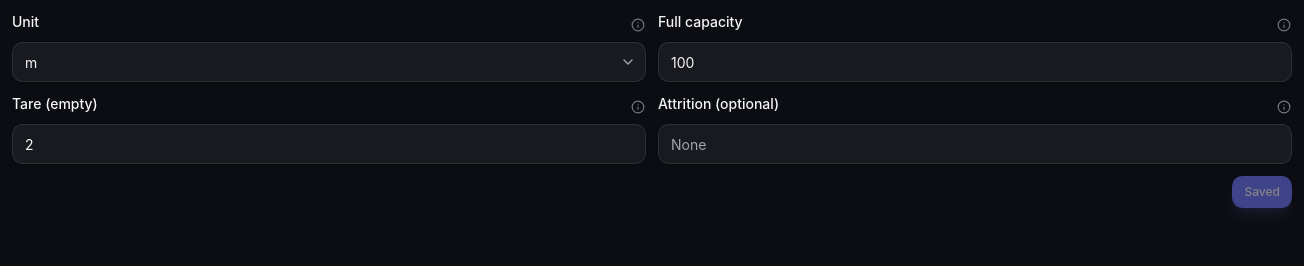
GaugeConfigEditor (issue #69) › warns how much would be discarded before shrinking below the current level
Replace the text in the number field with test id "gauge-config-capacity" with "50" at (975,62), box top-left (658, 42), bottom-right (1292, 82)
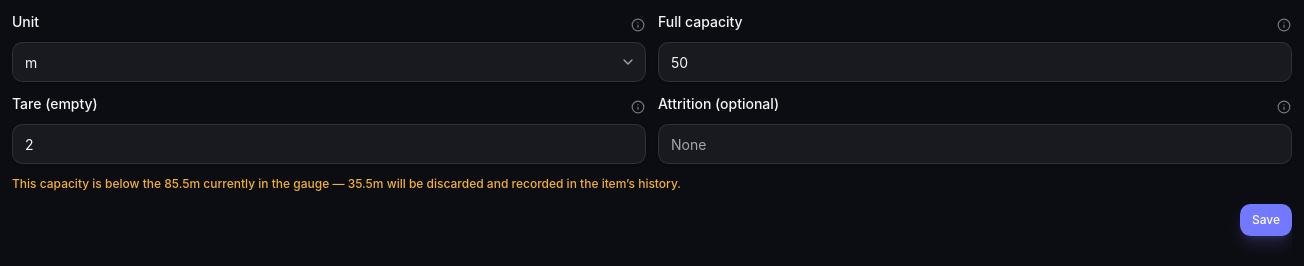
Expected: the text with test id "gauge-config-spill" shows "35.5m will be discarded", top-left (12, 176), bottom-right (681, 191)
Expected: the button with test id "gauge-config-save" is enabled, top-left (1240, 204), bottom-right (1292, 236)
